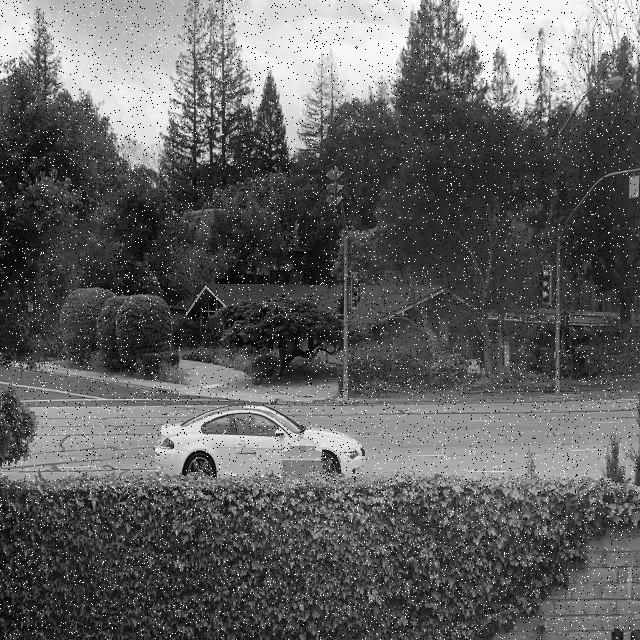Sedan: (154, 405, 367, 479)
